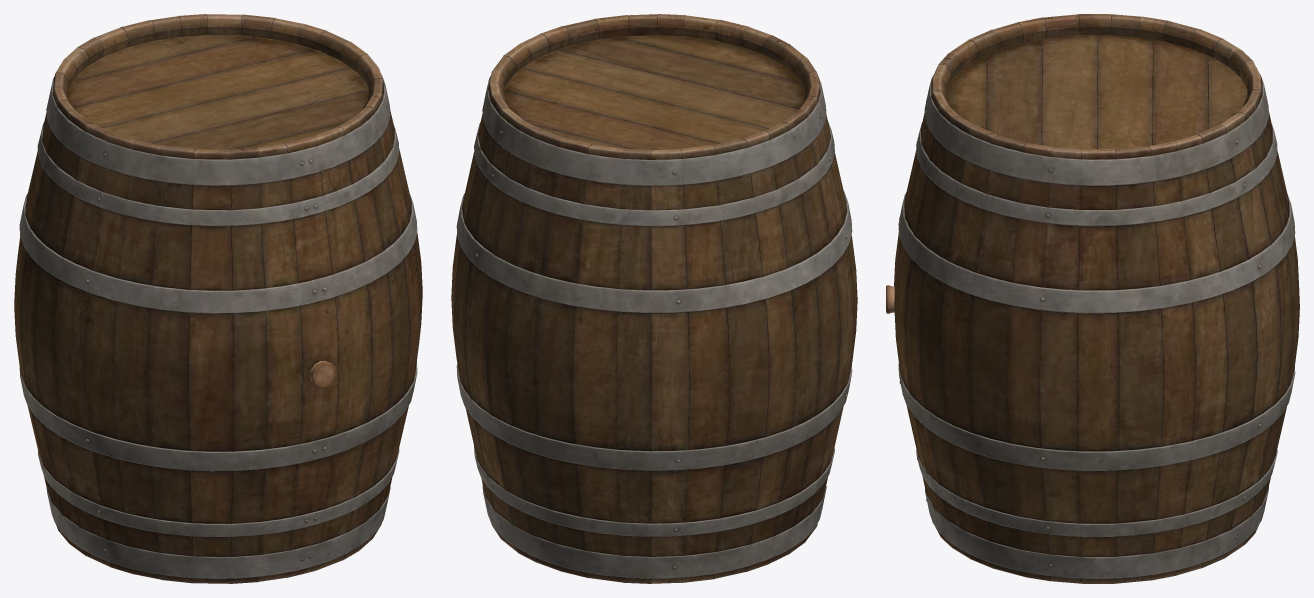
File: wine_barrel_01.glb
3 renders of one model, left to right at view 1: azimuth 30°, elevation 25°; view 2: azimuth 150°, elevation 25°; view 3: azimuth 270°, elevation 25°, orthographic.
Parts seen in each view (by area): view 1: wine_barrel_01_Lid; view 2: wine_barrel_01_Lid; view 3: wine_barrel_01_Lid.
Part boxes in pixels (x1,y1,x2,y2): wine_barrel_01_Lid: [14, 14, 422, 583]; wine_barrel_01_Lid: [451, 14, 857, 583]; wine_barrel_01_Lid: [886, 14, 1299, 583].
Size of the model in its own units: 0.7419 by 0.8713 by 0.756.
Materials: 1 (1 with a texture image).
